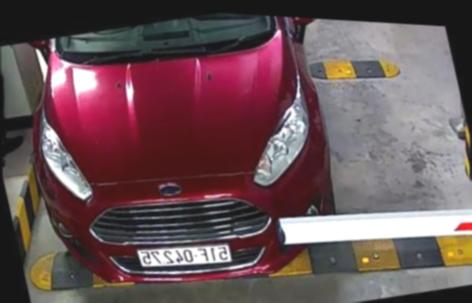License_Plate: (128, 225, 236, 290)
